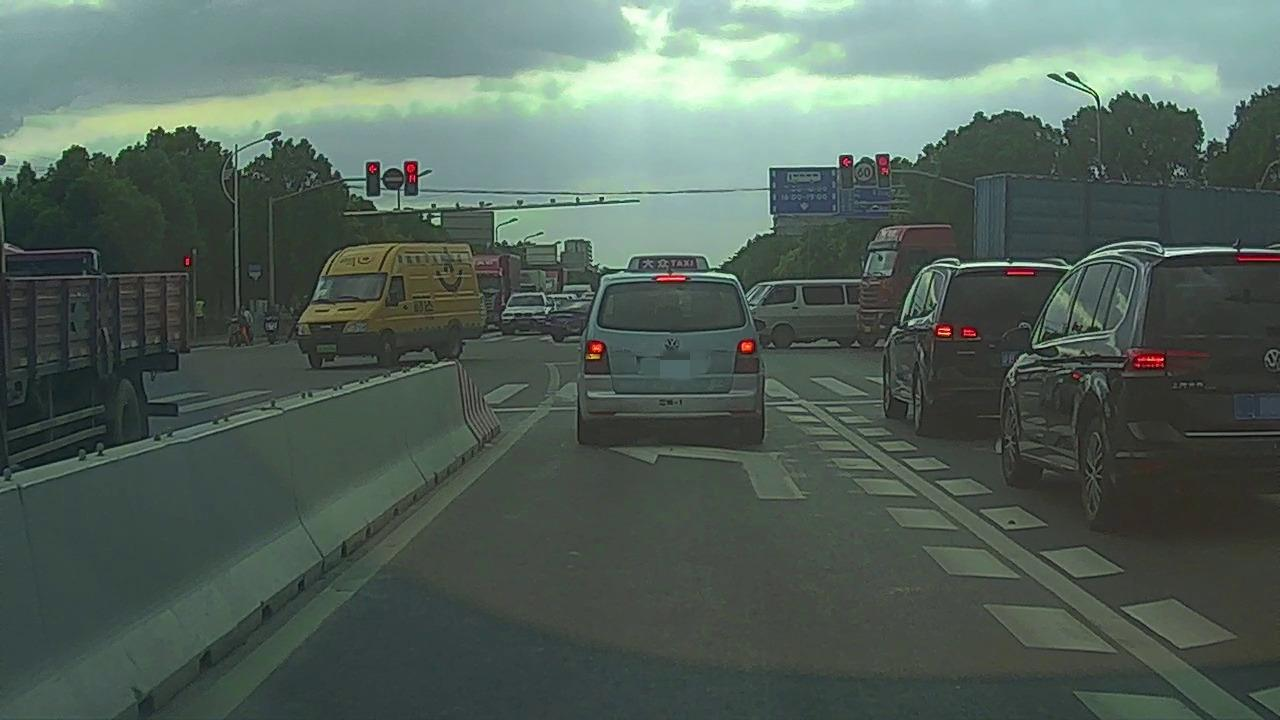traffic_light: (404, 161, 418, 196), (839, 155, 853, 189), (876, 154, 890, 187), (367, 162, 380, 196)
